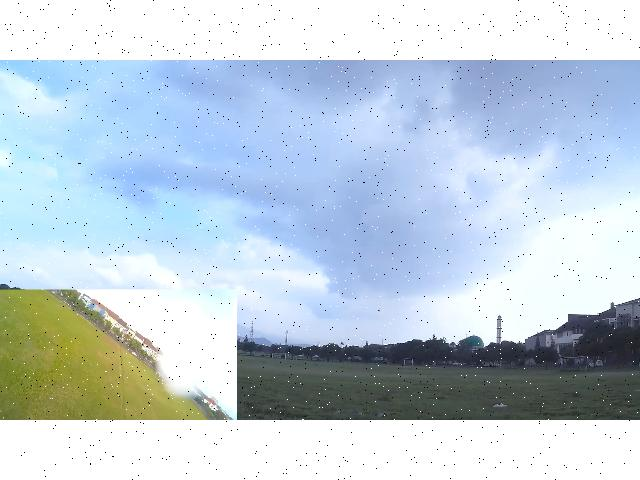Anti-Drone: (370, 303, 386, 319)
